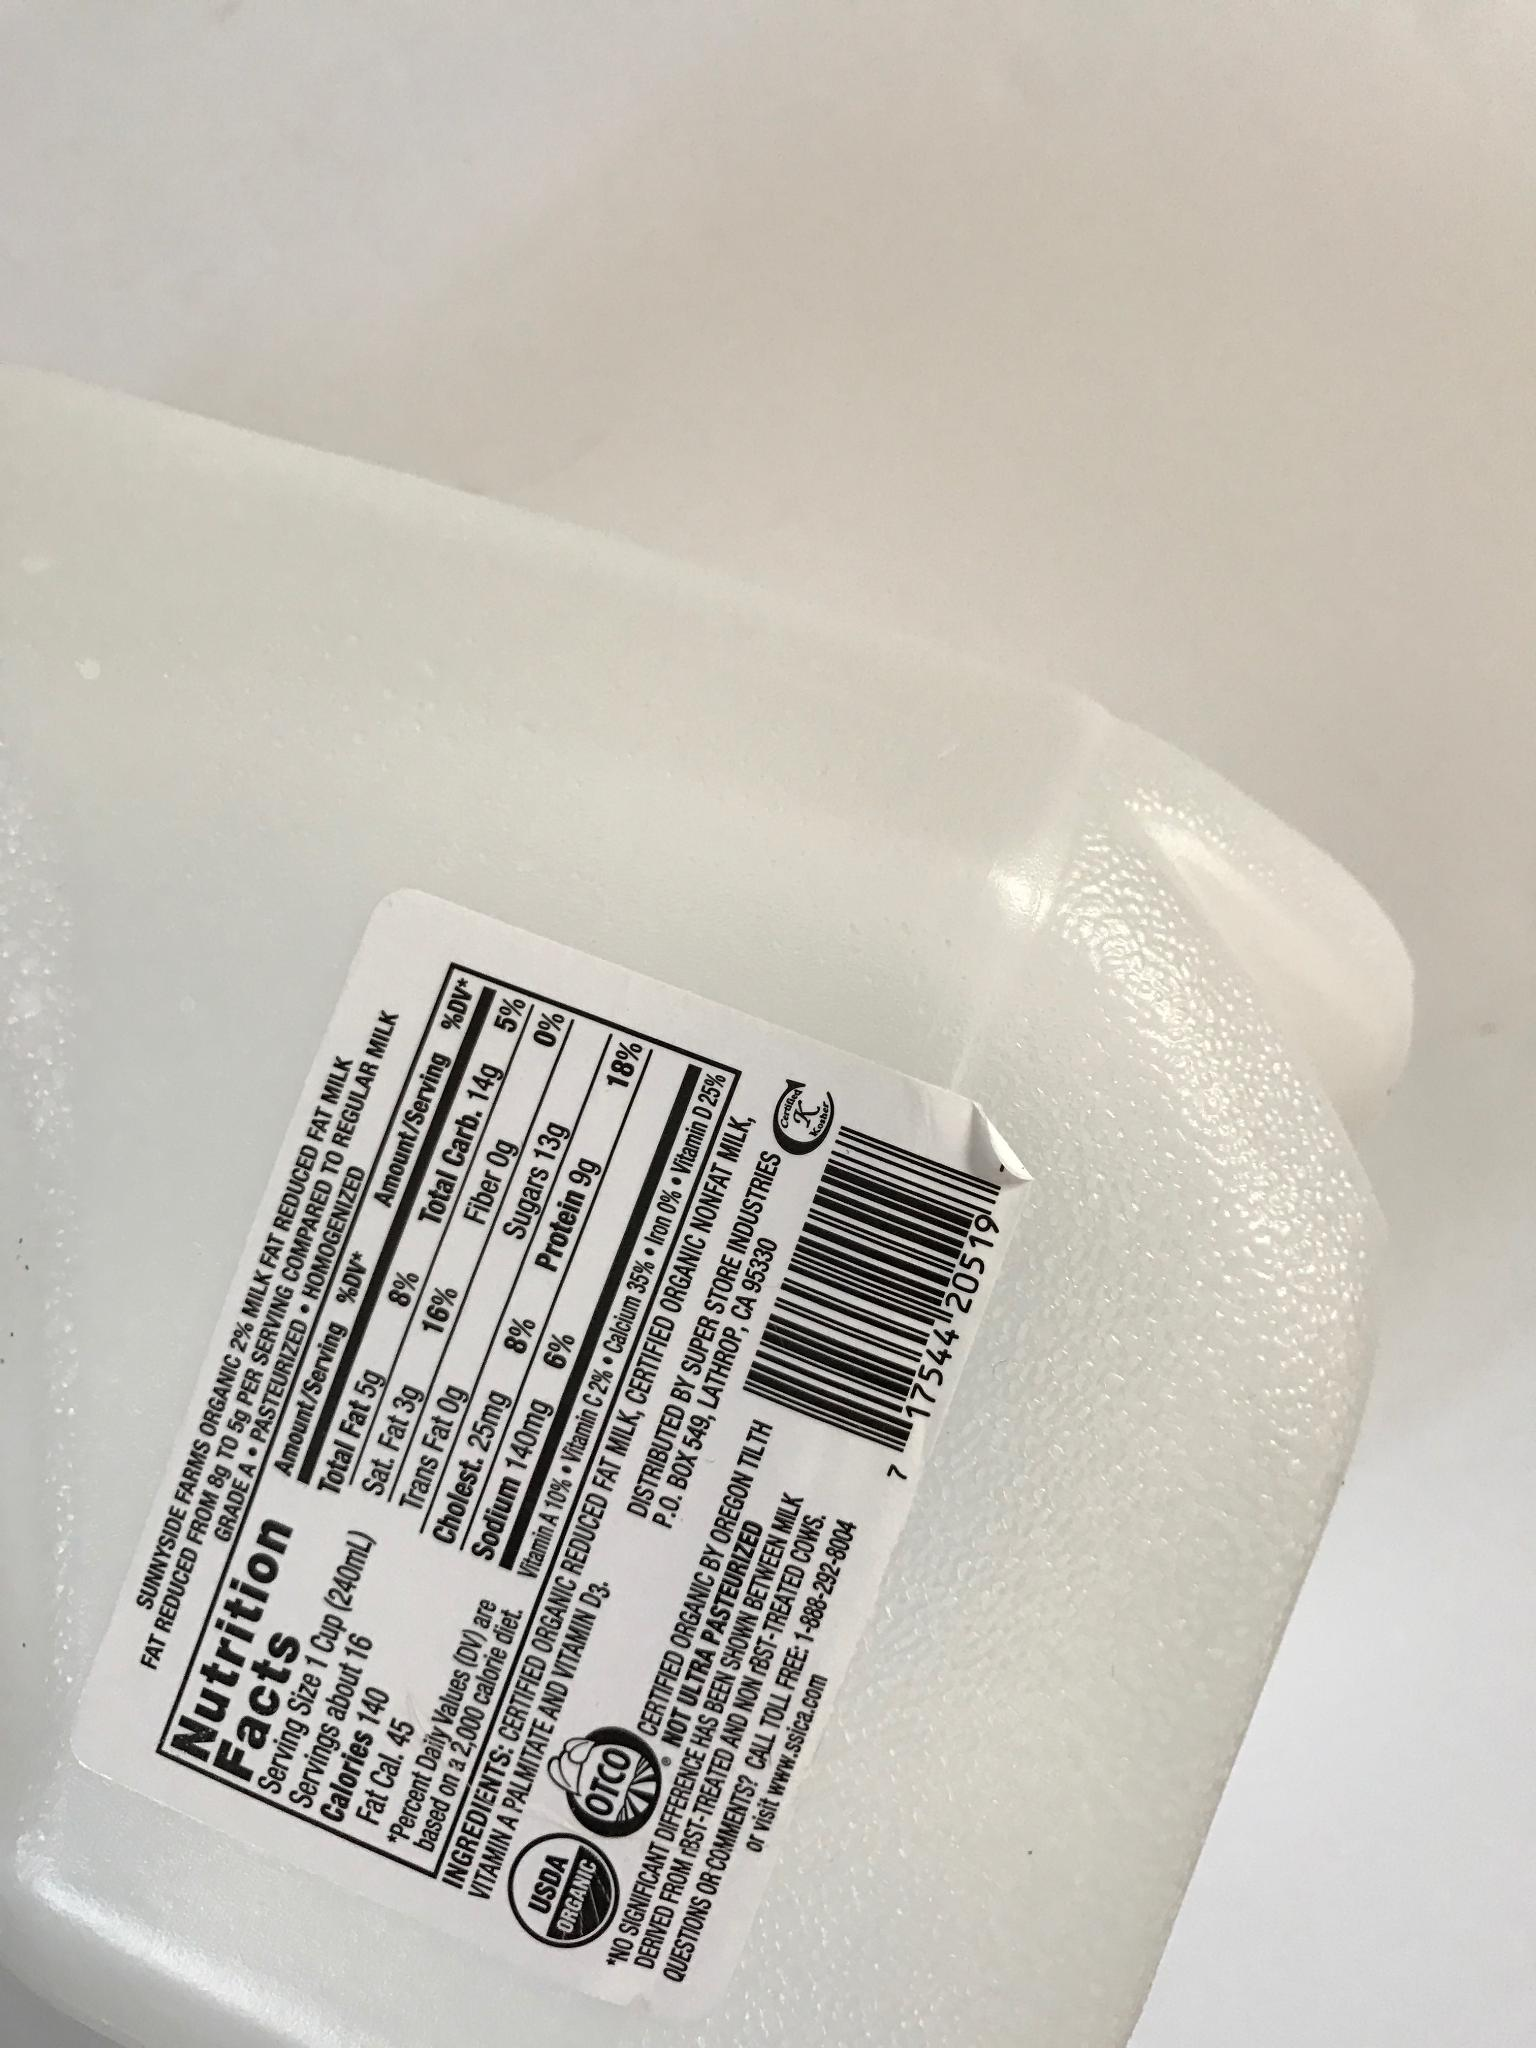Plastic: (0, 327, 1425, 2046)
